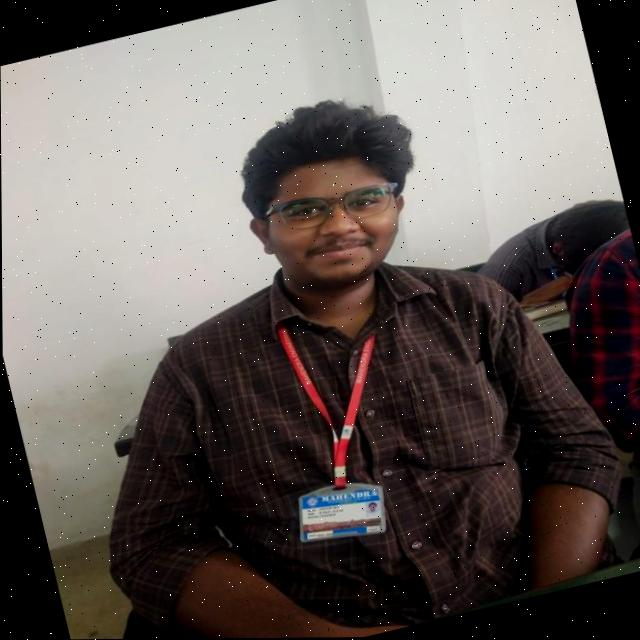id_card: (247, 297, 444, 563)
